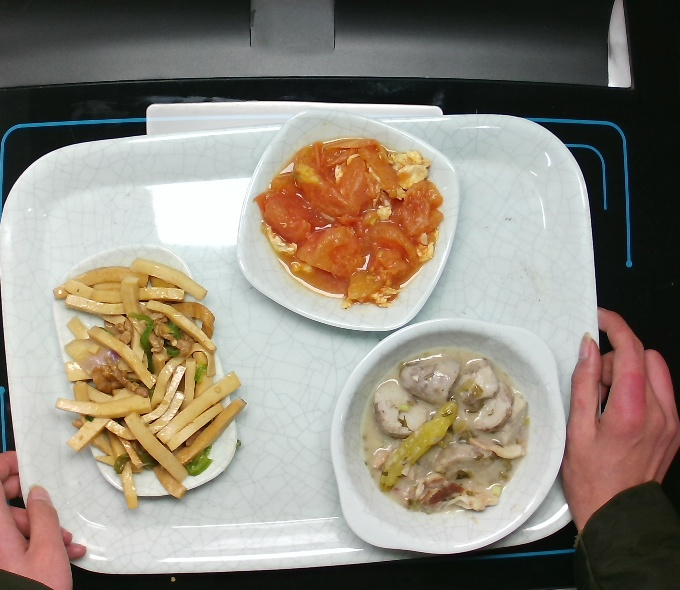wcq-FanQieChaoDan: (248, 132, 450, 314)
wcq-QianYeDouFu: (46, 255, 251, 515)
wcq-YangYu: (355, 343, 536, 519)
